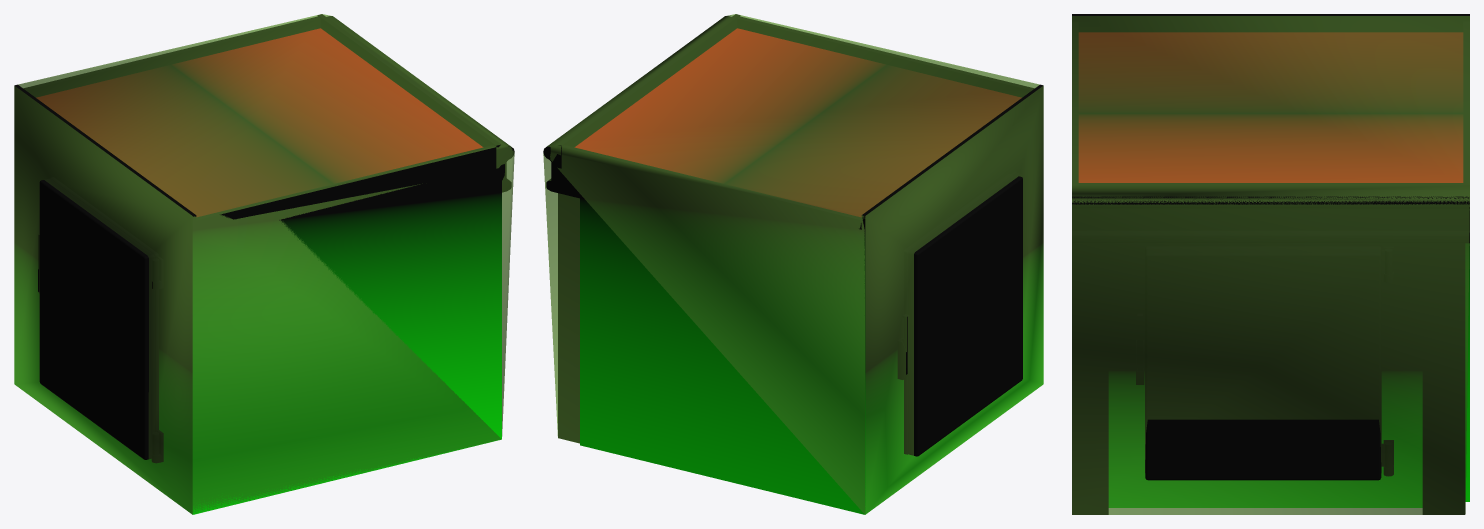
File: M_md_Stall2_1m_01.fbx
3 views of the same model, side by side, from view 1: azimuth 30°, elevation 25°; view 2: azimuth 150°, elevation 25°; view 3: azimuth 270°, elevation 25° (orthographic). The views are drawn at different scales.
Parts seen in each view (by area): view 1: M_md_Stall2_1m_01_LOD0, M_md_Stall2_1m_01_col_01; view 2: M_md_Stall2_1m_01_LOD0, M_md_Stall2_1m_01_col_01; view 3: M_md_Stall2_1m_01_LOD0, M_md_Stall2_1m_01_col_01.
Part boxes in pixels (x1,y1,x2,y2): M_md_Stall2_1m_01_LOD0: (14,14,514,514); M_md_Stall2_1m_01_col_01: (14,14,514,514); M_md_Stall2_1m_01_LOD0: (543,14,1043,514); M_md_Stall2_1m_01_col_01: (543,14,1043,514); M_md_Stall2_1m_01_LOD0: (1072,14,1469,514); M_md_Stall2_1m_01_col_01: (1072,16,1469,514).
Size of what is drawn, in the model's own units: 109 by 92.36 by 100.
